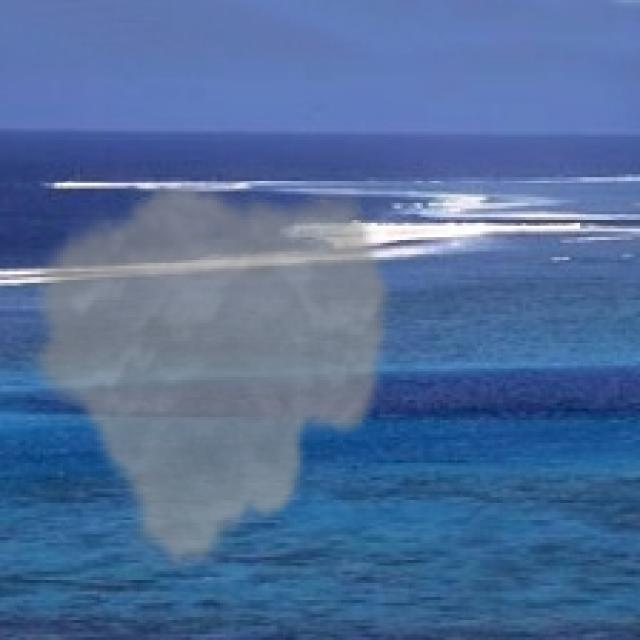Smoke: (22, 177, 398, 577)
